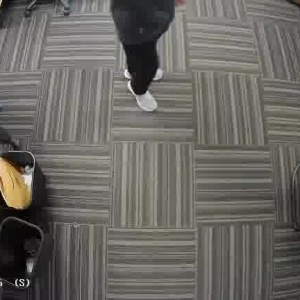person: (104, 0, 191, 121)
